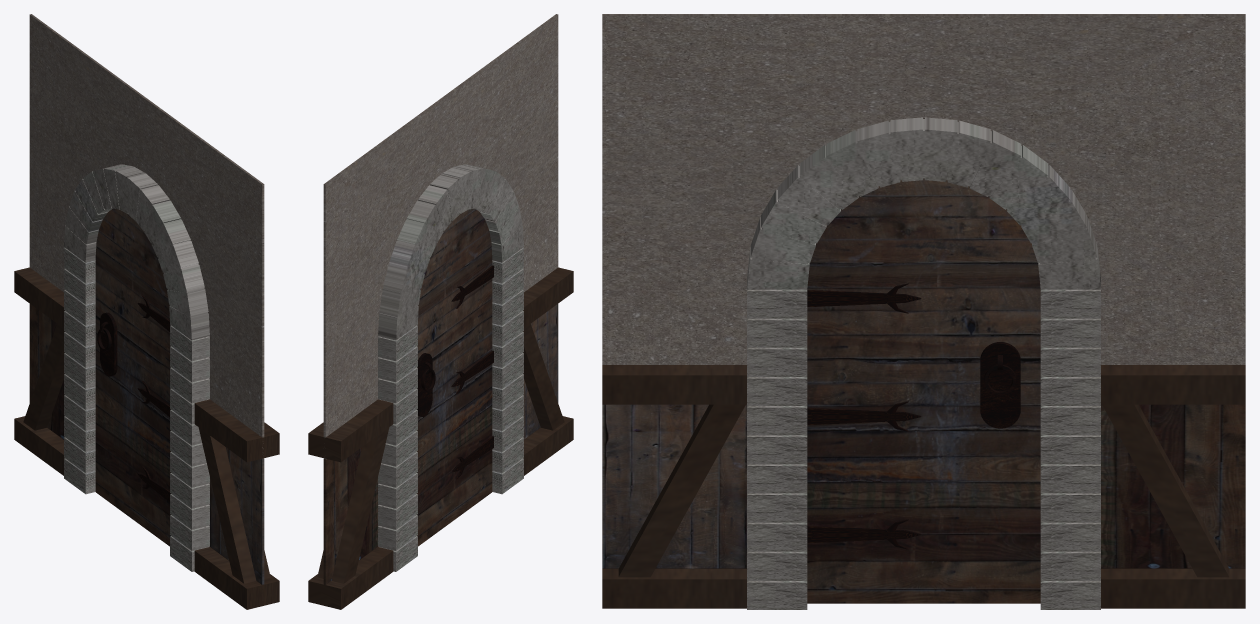
File: OutdoorArchitecture_BasicWall01_Door02_NoEdges_BShortt.fbx
3 views of the same model, side by side, from view 1: azimuth 30°, elevation 25°; view 2: azimuth 150°, elevation 25°; view 3: azimuth 270°, elevation 25° (orthographic). The views are drawn at different scales.
Parts seen in each view (by area): view 1: OutdoorArchitecture_BasicWall01_Door02_NoEdges_BShortt; view 2: OutdoorArchitecture_BasicWall01_Door02_NoEdges_BShortt; view 3: OutdoorArchitecture_BasicWall01_Door02_NoEdges_BShortt.
Boxes of the visible parts, bbox=[...] form: OutdoorArchitecture_BasicWall01_Door02_NoEdges_BShortt: bbox=[14, 14, 279, 609]; OutdoorArchitecture_BasicWall01_Door02_NoEdges_BShortt: bbox=[308, 14, 573, 609]; OutdoorArchitecture_BasicWall01_Door02_NoEdges_BShortt: bbox=[602, 14, 1245, 609].
Size of the model in its own units: 28.44 by 300 by 300.
